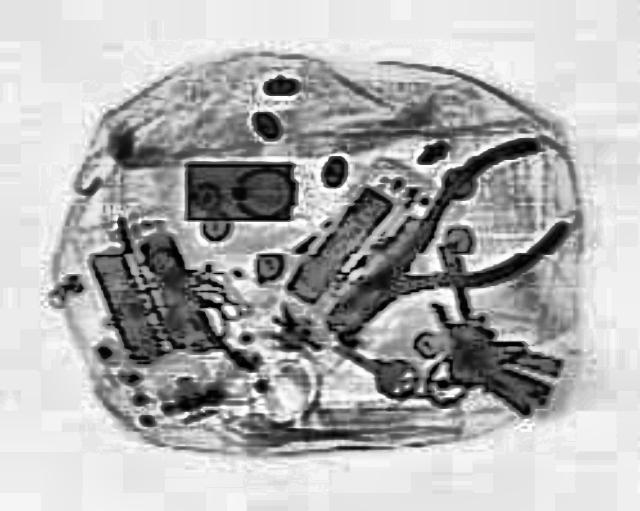Pliers: (290, 122, 618, 358)
